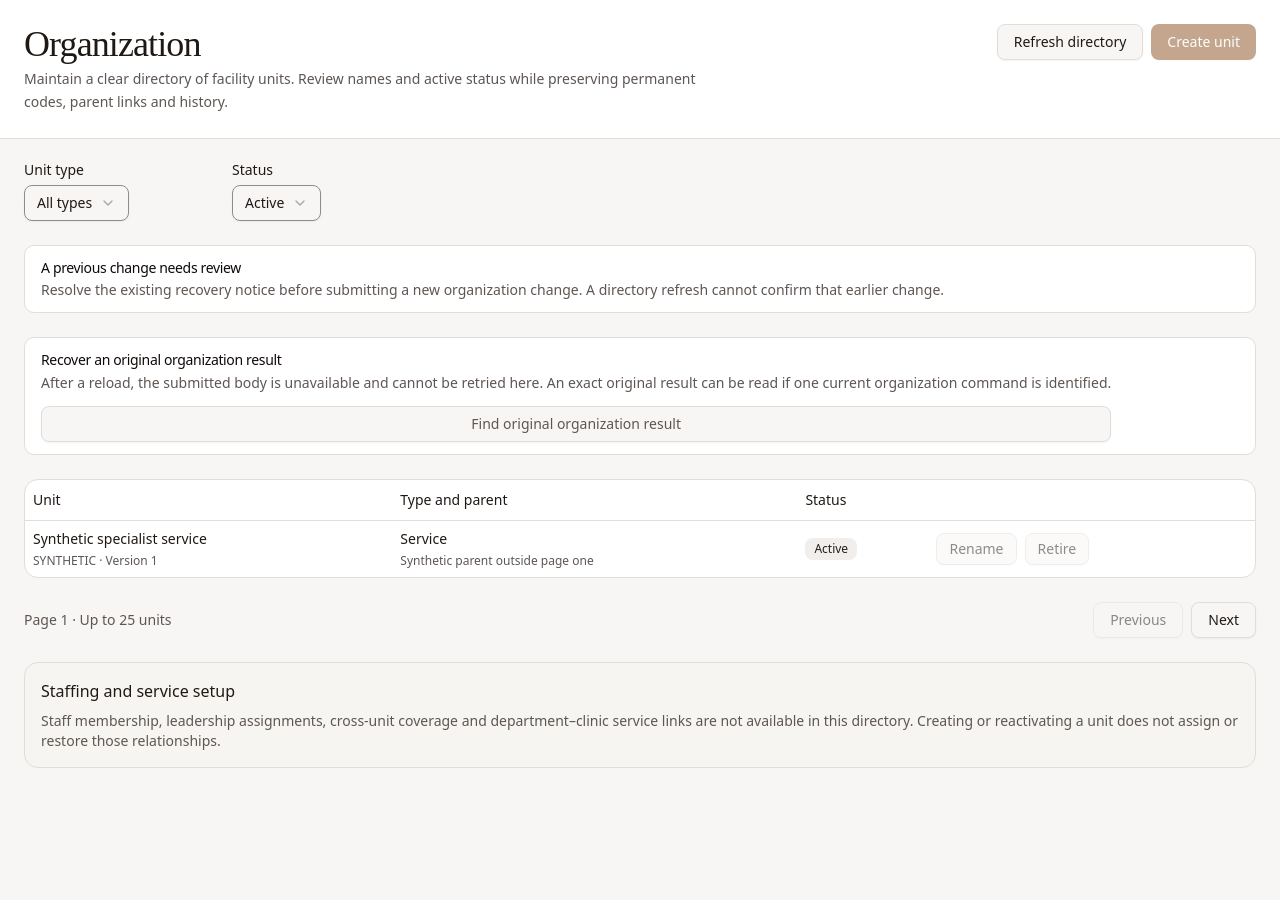
Test case: keeps cursor pages instead of building a truncated organization tree and resets cursor on filters
Expected: the text "Synthetic specialist service" is shown, [33, 529, 207, 548]
Step 1. Click the button "Next" → (1224, 620), box [1191, 602, 1256, 638]
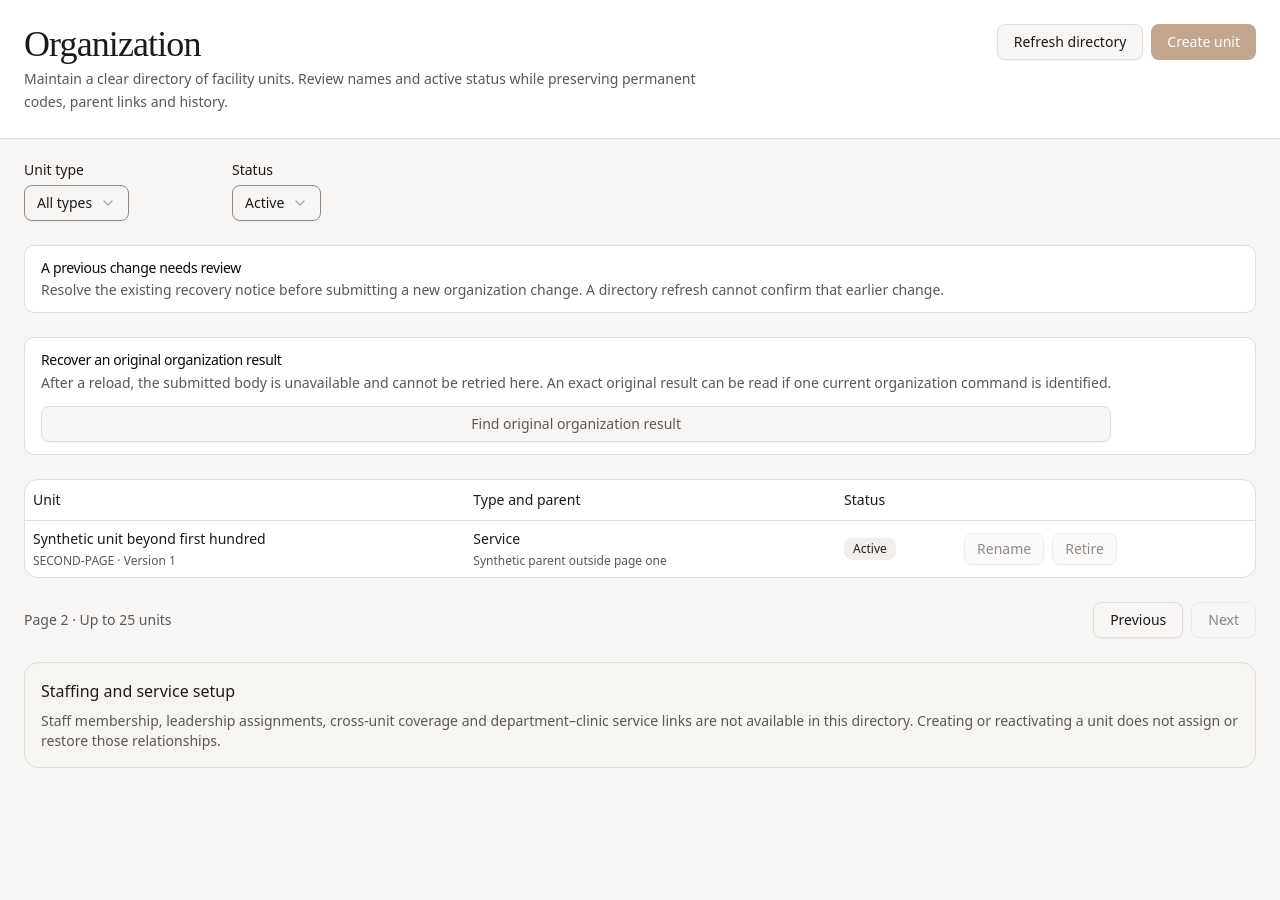
Expected: the text "Synthetic unit beyond first hundred" is shown, [33, 529, 266, 548]
Step 2. Press ArrowDown in the dropdown named "Status", box [232, 184, 321, 220]
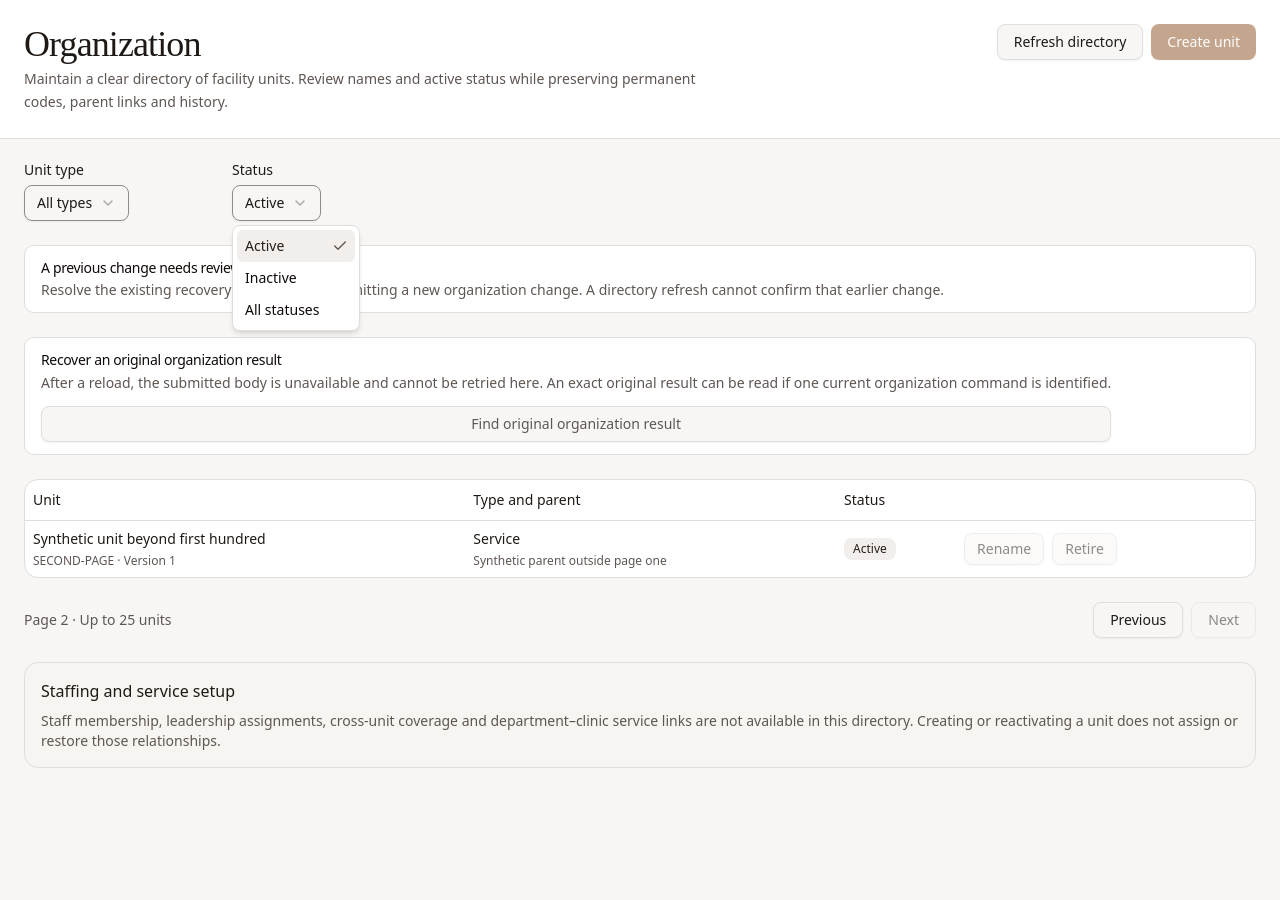
Step 3. Click the option "Inactive" → (271, 278), box [245, 268, 297, 287]
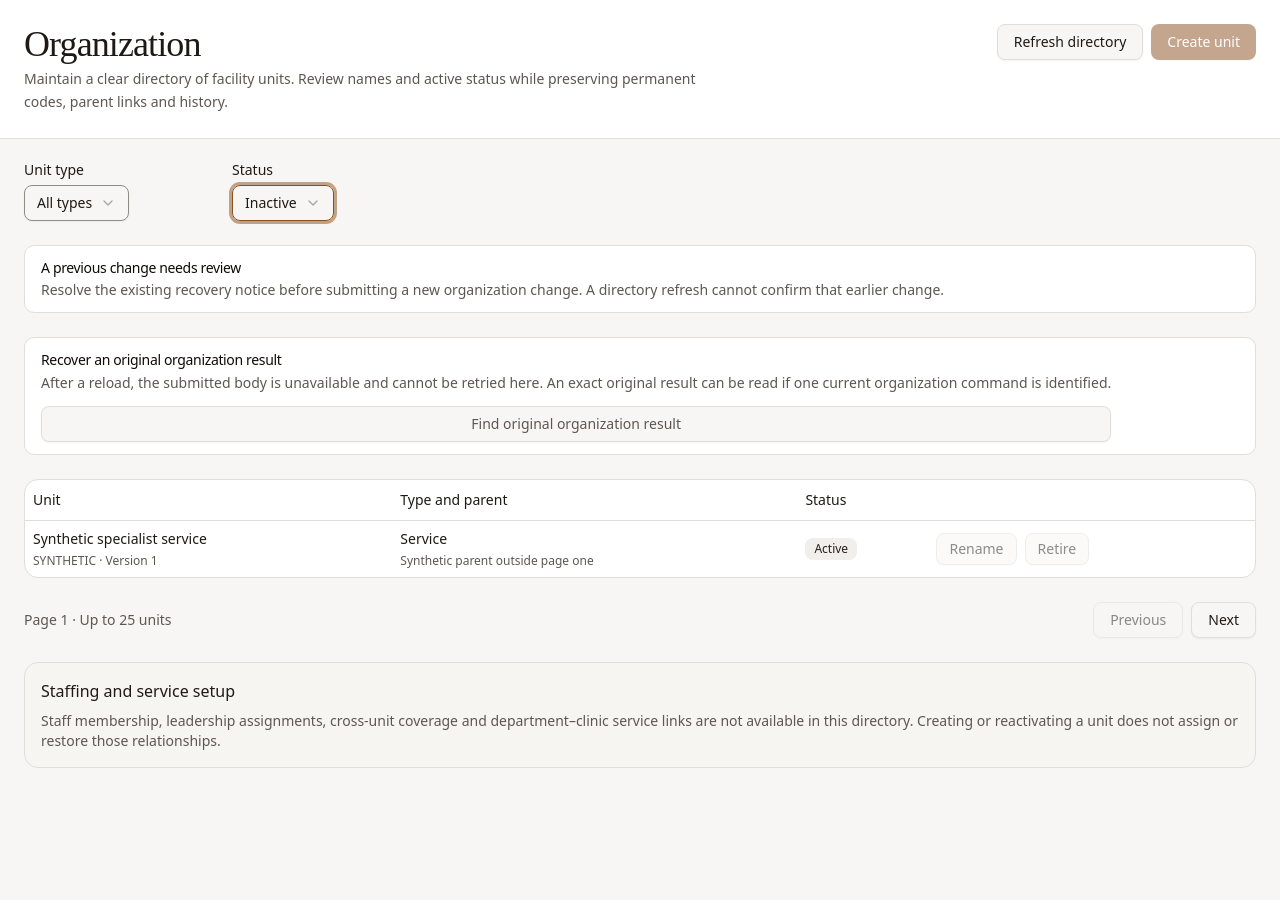
Expected: the text "Synthetic specialist service" is shown, [33, 529, 207, 548]
